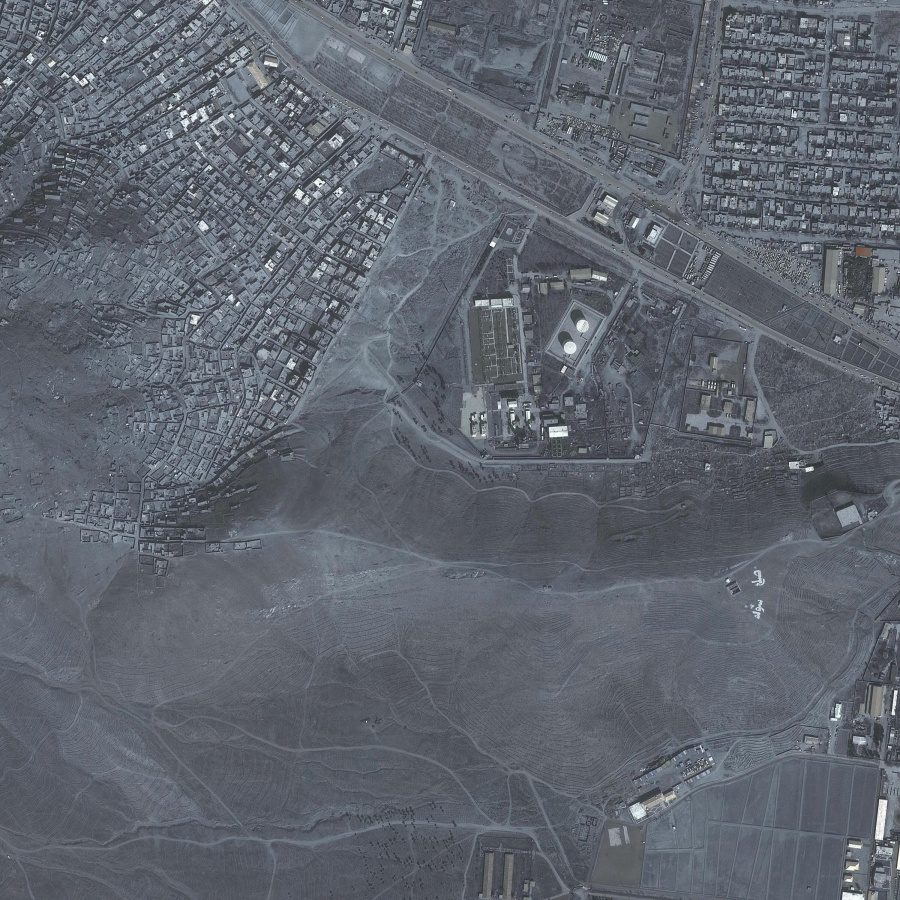PowerPlant: (470, 261, 613, 452)
